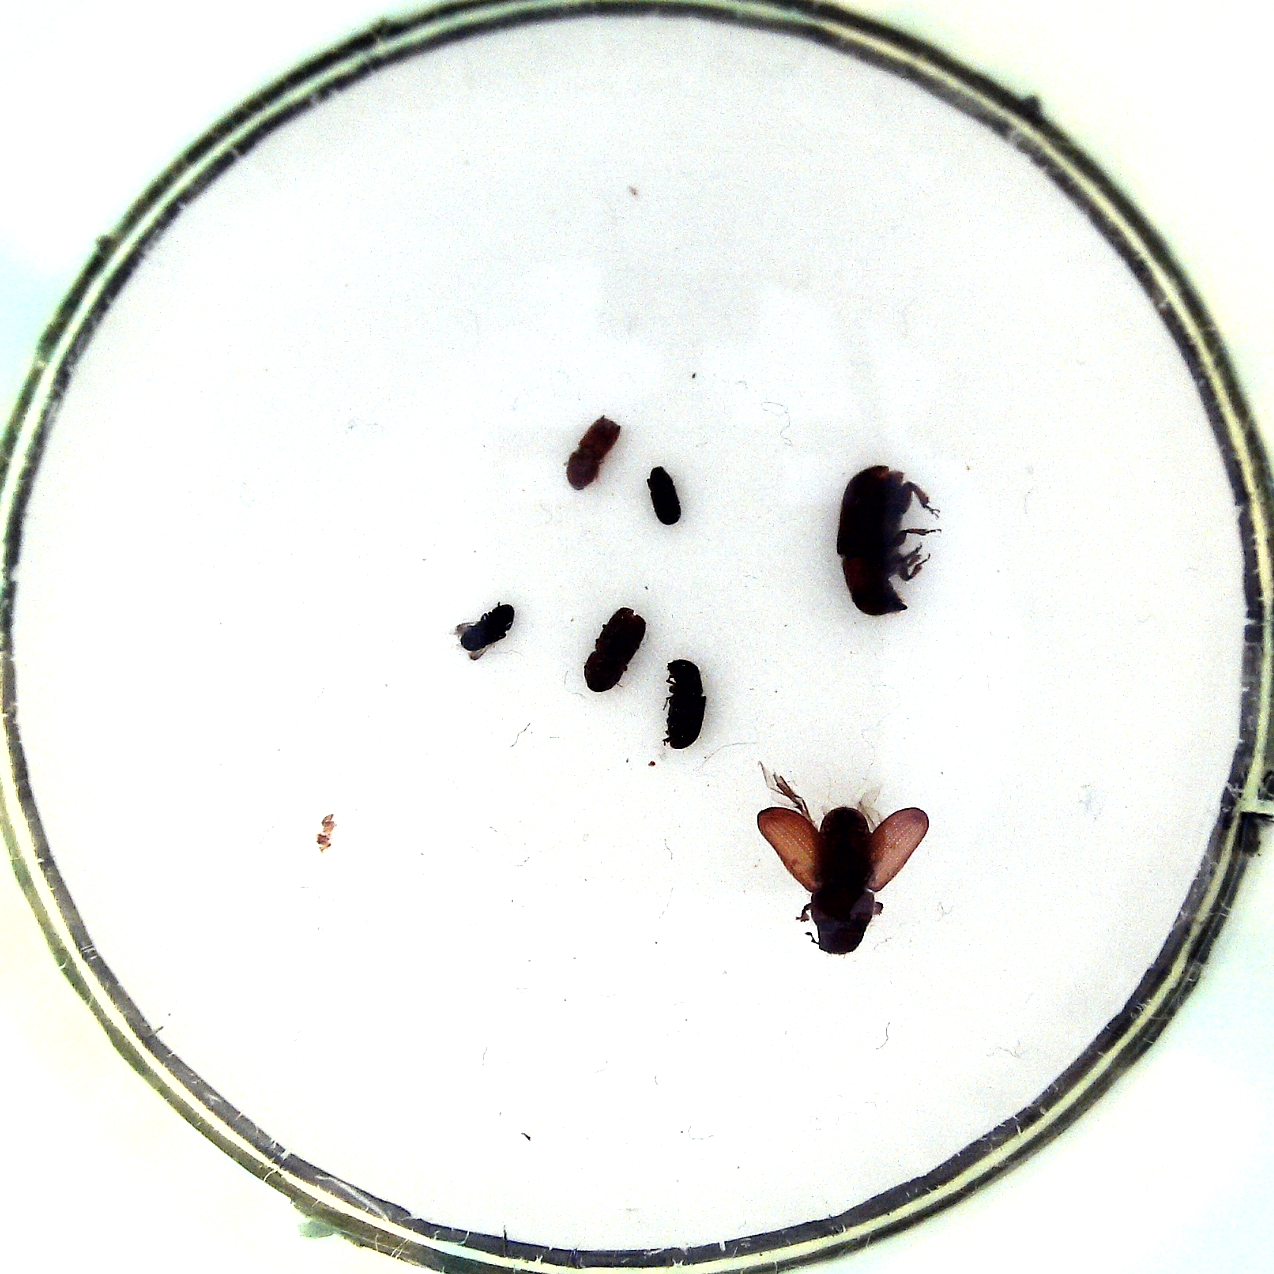Leconte: (758, 766, 933, 965), (838, 459, 940, 622)
Linnaeus: (581, 607, 647, 696)
acuminatus: (561, 414, 622, 495)
armandi: (661, 656, 708, 755)
coleoptera: (452, 601, 517, 661), (645, 464, 682, 528)
